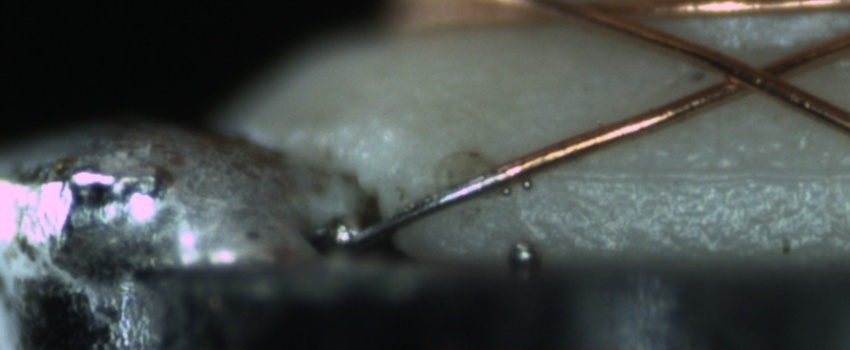CL: (695, 51, 806, 100)
DL: (550, 144, 849, 204)
TS: (347, 171, 501, 248)
